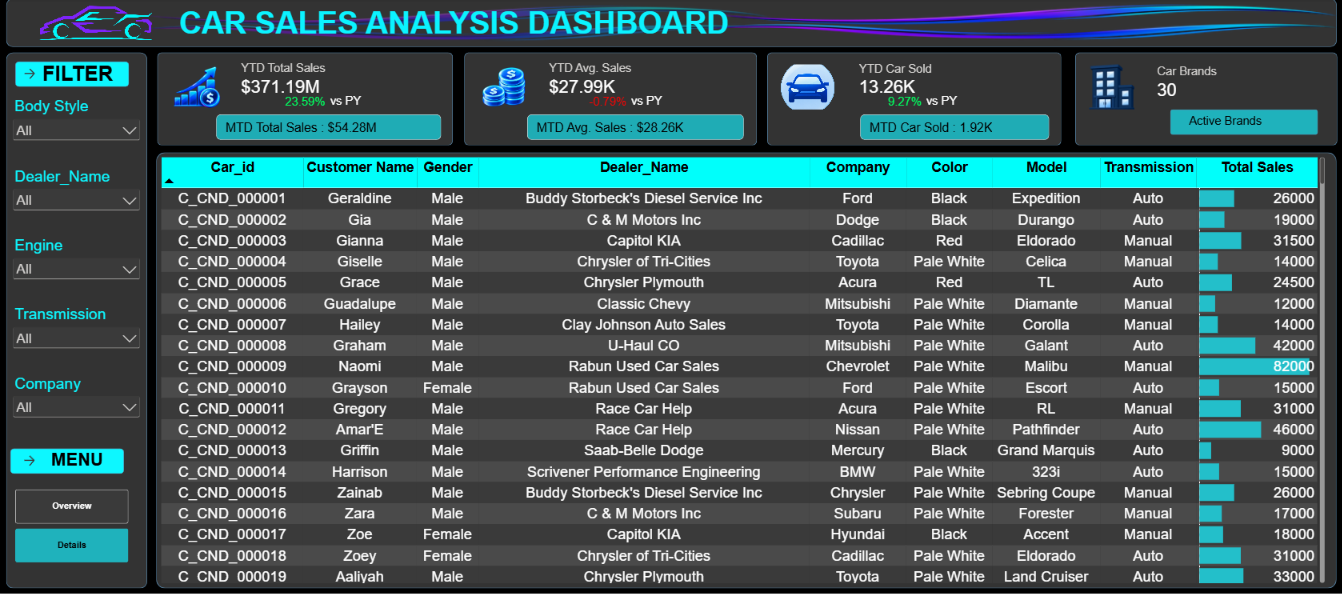

The page's visual inventory and layout, read from the dashboard file:
{"tool":"powerbi","page":{"name":"Details","canvas":[2433,1080],"ordinal":1},"visuals":[{"type":"shape","box":[12,0,2408,88],"z":0},{"type":"group","id":"g1","title":"Group 3","box":[286,98,2134,168],"z":0},{"type":"shape","box":[286,98,535,168.4],"z":1000,"group":"g1"},{"type":"shape","box":[284,278,2136,789],"z":1000},{"type":"shape","box":[12.7,97.7,255.2,970],"z":2000},{"type":"shape","box":[842.1,98,529.8,168.4],"z":2000,"group":"g1"},{"type":"image","box":[290.3,120,136,81.8],"z":2000},{"type":"image","box":[234,10,1172,68],"z":3000},{"type":"shape","box":[1390.3,98,532.4,168.4],"z":3000,"group":"g1"},{"type":"image","box":[843.1,120,136,81.8],"z":3000},{"type":"image","box":[64,9.8,222.5,68.3],"z":4000},{"type":"shape","box":[1946.4,98,474.4,168.4],"z":4000,"group":"g1"},{"type":"image","box":[1395.8,120,136,81.8],"z":4000},{"type":"image","box":[1264.5,9.8,1168.9,68.3],"z":5000},{"type":"image","box":[1945.6,120,136,81.8],"z":5000},{"type":"textbox","box":[324.9,13.3,1014.5,75.1],"z":6000},{"type":"cardVisual","fields":{"Data":["KPI's measures.YTD Avg. Sales"]},"box":[979.2,96,263.9,103.9],"z":6000},{"type":"cardVisual","fields":{"Data":["KPI's measures.YTD Car Sold"]},"box":[1539.9,96,215.5,104],"z":7000},{"type":"slicer","fields":{"Values":["Cars Sales Data.Body Style"]},"box":[20,180,240,88],"z":7000},{"type":"cardVisual","fields":{"Data":["KPI's measures.Car Brands"]},"box":[2079.9,96,264.8,114],"z":8000},{"type":"slicer","fields":{"Values":["Cars Sales Data.Dealer_Name"]},"box":[20,305,240,88],"z":8000},{"type":"cardVisual","fields":{"Data":["KPI's measures.MTD Avg. KPIs"]},"box":[955.8,210,392,46],"z":9000},{"type":"slicer","fields":{"Values":["Cars Sales Data.Engine"]},"box":[20,430,240,88],"z":9000},{"type":"cardVisual","fields":{"Data":["KPI's measures.Agv. Sales Growth %"]},"box":[1052,165,120.7,44],"z":10000},{"type":"slicer","fields":{"Values":["Cars Sales Data.Transmission"]},"box":[20,555,240,88],"z":10000},{"type":"cardVisual","fields":{"Data":["KPI's measures.sales Growth %"]},"box":[501,164,120.7,44],"z":11000},{"type":"slicer","fields":{"Values":["Cars Sales Data.Company"]},"box":[20,680,240,88],"z":11000},{"type":"shape","box":[29,114,206,46],"z":12000},{"type":"cardVisual","fields":{"Data":["KPI's measures.Car Sold Growth %"]},"box":[1593,165,120.7,44],"z":12000},{"type":"textbox","box":[78,114,136,47],"z":13000},{"type":"cardVisual","fields":{"Data":["KPI's measures.MTD Car KPIs"]},"box":[1558.1,210,342.7,46],"z":13000},{"type":"shape","box":[2118.9,200,267.4,46],"z":14000},{"type":"shape","box":[20,814,206,46],"z":14000},{"type":"actionButton","box":[34,117,41,37],"z":15000},{"type":"textbox","box":[2135.7,210,236.2,28],"z":15000},{"type":"textbox","box":[1143,173,103.9,33.2],"z":16000},{"type":"actionButton","box":[24,816,62,40],"z":16000},{"type":"cardVisual","fields":{"Data":["KPI's measures.MTD Sales Kpis"]},"box":[392.4,210,407.6,46],"z":17000},{"type":"textbox","box":[95,817,117,38],"z":17000},{"type":"textbox","box":[599,173,95,39.8],"z":18000},{"type":"textbox","box":[1678,173,103.9,33.2],"z":19000},{"type":"tableEx","fields":{"Values":["Cars Sales Data.Car_id","Cars Sales Data.Customer Name","Cars Sales Data.Gender","Cars Sales Data.Dealer_Name","Cars Sales Data.Company","Cars Sales Data.Color","Cars Sales Data.Model","Cars Sales Data.Transmission","KPI's measures.Total Sales"]},"box":[286,278,2120,790],"z":19000},{"type":"cardVisual","fields":{"Data":["KPI's measures.Total YTD Sales"]},"box":[421,96,263.9,103.9],"z":19500},{"type":"pageNavigator","box":[28.7,888.5,205.6,132.6],"z":19501}]}

Visuals, with their boxes in screenshot pixels (x1, y1, x2, y2), scaled from the page's 2433x1080 canvas onto the 1342x594 screenshot:
shape: (x1=7, y1=0, x2=1335, y2=48)
"Group 3" group: (x1=158, y1=54, x2=1335, y2=146)
shape: (x1=158, y1=54, x2=453, y2=147)
shape: (x1=157, y1=153, x2=1335, y2=587)
shape: (x1=7, y1=54, x2=148, y2=587)
shape: (x1=464, y1=54, x2=757, y2=147)
image: (x1=160, y1=66, x2=235, y2=111)
image: (x1=129, y1=6, x2=776, y2=43)
shape: (x1=767, y1=54, x2=1061, y2=147)
image: (x1=465, y1=66, x2=540, y2=111)
image: (x1=35, y1=5, x2=158, y2=43)
shape: (x1=1074, y1=54, x2=1335, y2=147)
image: (x1=770, y1=66, x2=845, y2=111)
image: (x1=697, y1=5, x2=1341, y2=43)
image: (x1=1073, y1=66, x2=1148, y2=111)
textbox: (x1=179, y1=7, x2=739, y2=49)
cardVisual - KPI's measures.YTD Avg. Sales: (x1=540, y1=53, x2=686, y2=110)
cardVisual - KPI's measures.YTD Car Sold: (x1=849, y1=53, x2=968, y2=110)
slicer - Cars Sales Data.Body Style: (x1=11, y1=99, x2=143, y2=147)
cardVisual - KPI's measures.Car Brands: (x1=1147, y1=53, x2=1293, y2=116)
slicer - Cars Sales Data.Dealer_Name: (x1=11, y1=168, x2=143, y2=216)
cardVisual - KPI's measures.MTD Avg. KPIs: (x1=527, y1=116, x2=743, y2=141)
slicer - Cars Sales Data.Engine: (x1=11, y1=237, x2=143, y2=285)
cardVisual - KPI's measures.Agv. Sales Growth %: (x1=580, y1=91, x2=647, y2=115)
slicer - Cars Sales Data.Transmission: (x1=11, y1=305, x2=143, y2=354)
cardVisual - KPI's measures.sales Growth %: (x1=276, y1=90, x2=343, y2=114)
slicer - Cars Sales Data.Company: (x1=11, y1=374, x2=143, y2=422)
shape: (x1=16, y1=63, x2=130, y2=88)
cardVisual - KPI's measures.Car Sold Growth %: (x1=879, y1=91, x2=945, y2=115)
textbox: (x1=43, y1=63, x2=118, y2=89)
cardVisual - KPI's measures.MTD Car KPIs: (x1=859, y1=116, x2=1048, y2=141)
shape: (x1=1169, y1=110, x2=1316, y2=135)
shape: (x1=11, y1=448, x2=125, y2=473)
actionButton: (x1=19, y1=64, x2=41, y2=85)
textbox: (x1=1178, y1=116, x2=1308, y2=131)
textbox: (x1=630, y1=95, x2=688, y2=113)
actionButton: (x1=13, y1=449, x2=47, y2=471)
cardVisual - KPI's measures.MTD Sales Kpis: (x1=216, y1=116, x2=441, y2=141)
textbox: (x1=52, y1=449, x2=117, y2=470)
textbox: (x1=330, y1=95, x2=383, y2=117)
textbox: (x1=926, y1=95, x2=983, y2=113)
tableEx - Cars Sales Data.Car_id x Cars Sales Data.Customer Name: (x1=158, y1=153, x2=1327, y2=587)
cardVisual - KPI's measures.Total YTD Sales: (x1=232, y1=53, x2=378, y2=110)
pageNavigator: (x1=16, y1=489, x2=129, y2=562)
